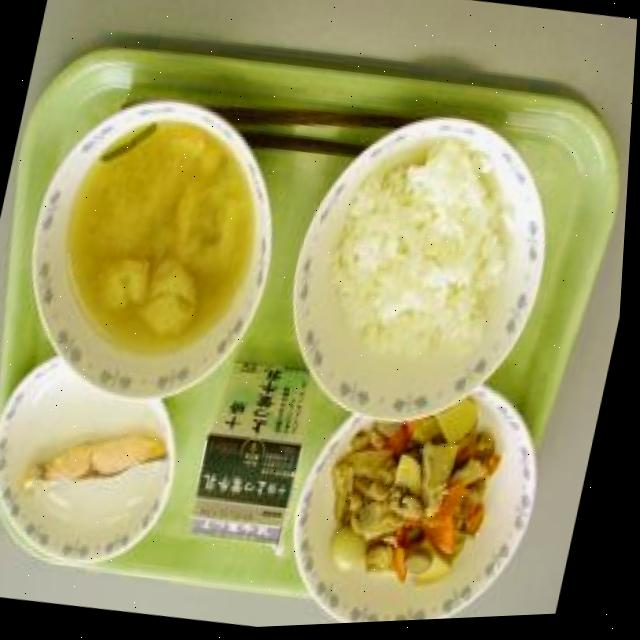熟制海鲜: (0, 401, 181, 524)
